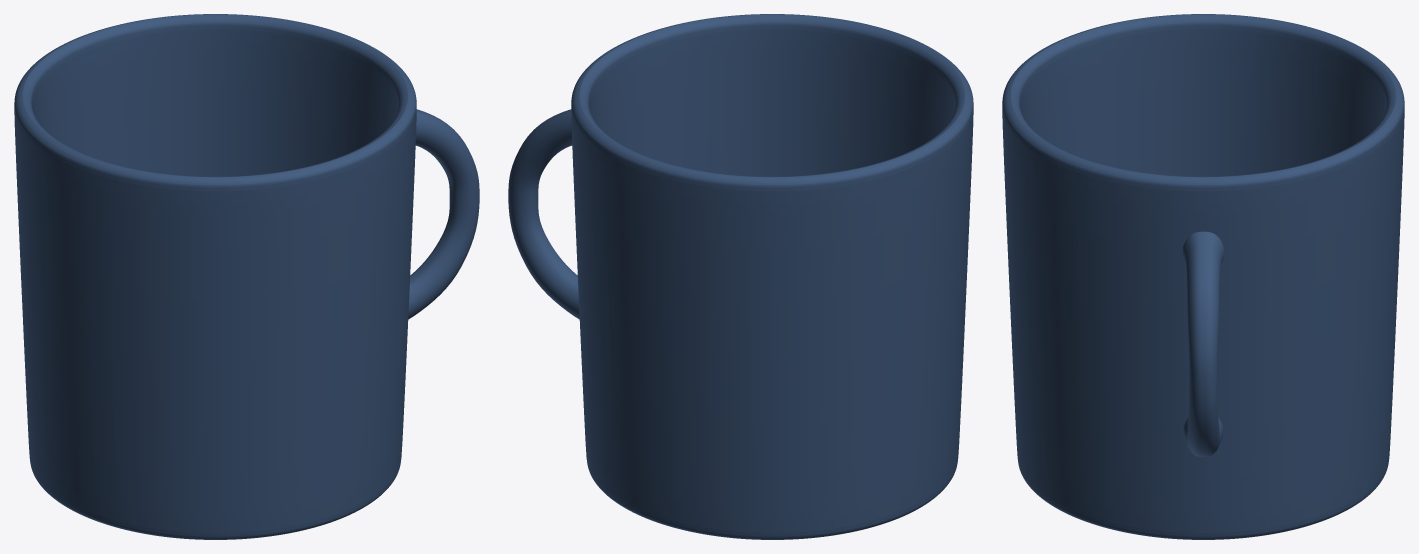
File: Mug-full 1.fbx
The picture shows the model from 3 angles, left to right: view 1: azimuth 30°, elevation 25°; view 2: azimuth 150°, elevation 25°; view 3: azimuth 270°, elevation 25°; orthographic projection.
Visible parts, largest first — view 1: Cup; view 2: Cup; view 3: Cup.
Boxes of the visible parts, bbox=[...] form: Cup: bbox=[14, 14, 479, 539]; Cup: bbox=[508, 14, 973, 539]; Cup: bbox=[1002, 14, 1404, 539].
Size of the model in its own units: 78.28 by 63.27 by 62.58.
